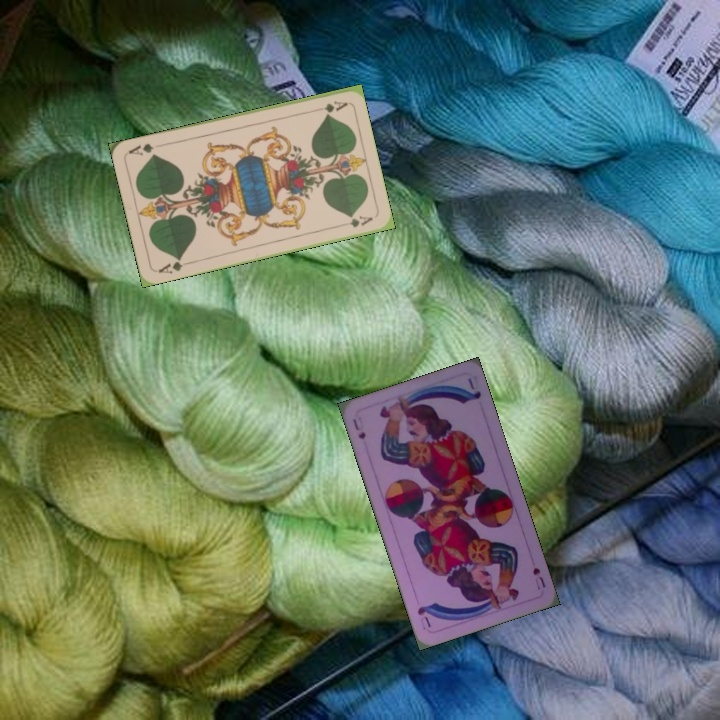GA: (155, 254, 193, 276), (309, 96, 350, 115)
SU: (529, 563, 548, 593), (349, 415, 368, 442)
